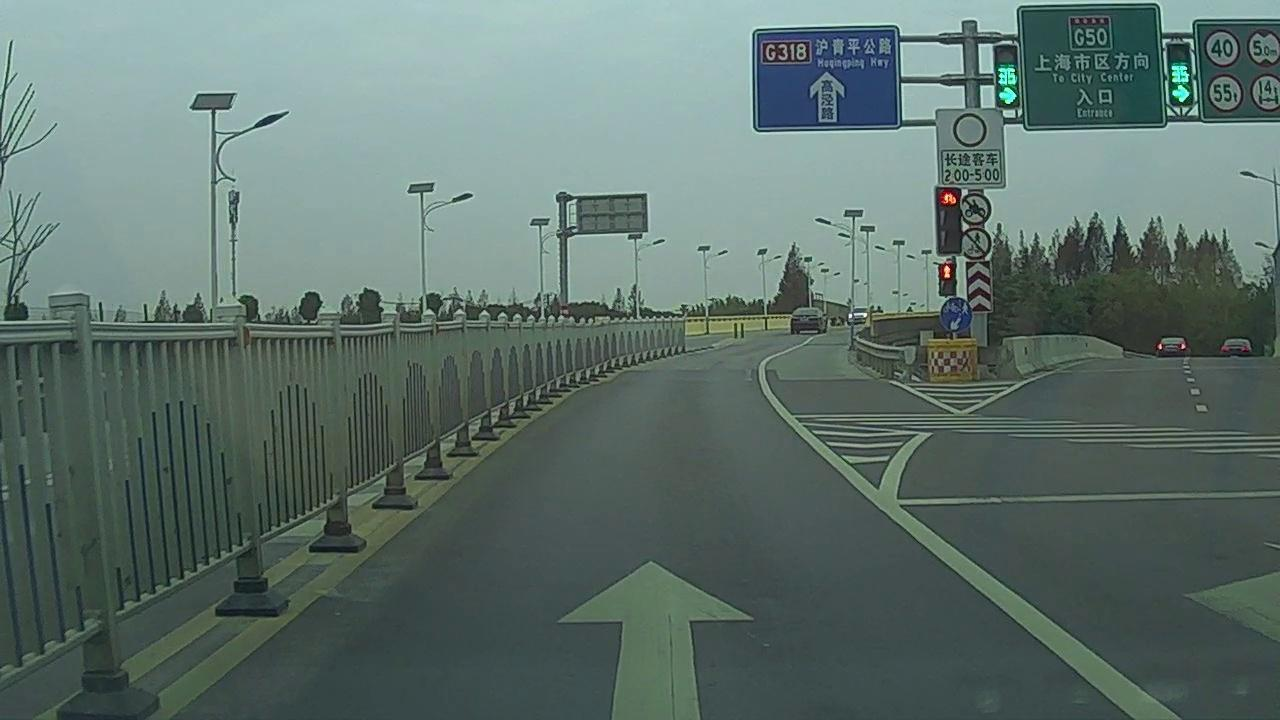traffic_light: (994, 47, 1019, 107), (1168, 42, 1192, 103)
